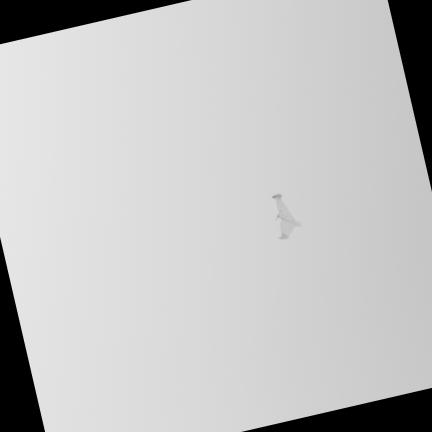Shahed: (272, 195, 300, 239)
